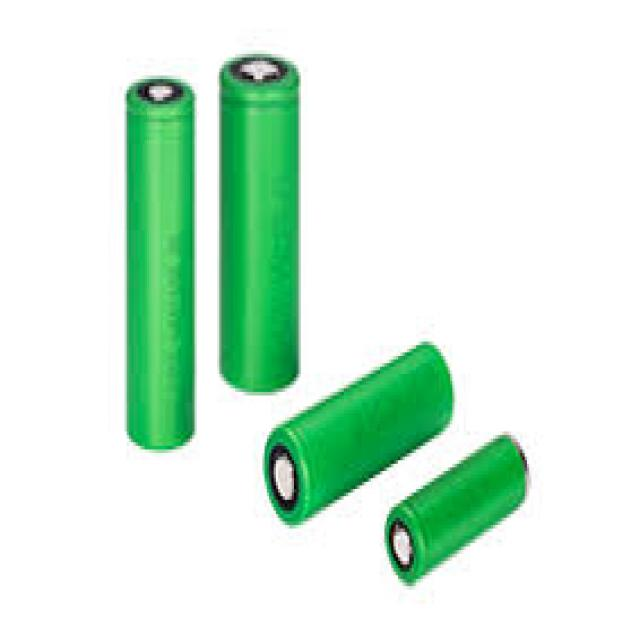non-organic waste: (262, 344, 452, 524), (220, 50, 302, 395), (127, 78, 194, 452), (381, 424, 531, 588)
